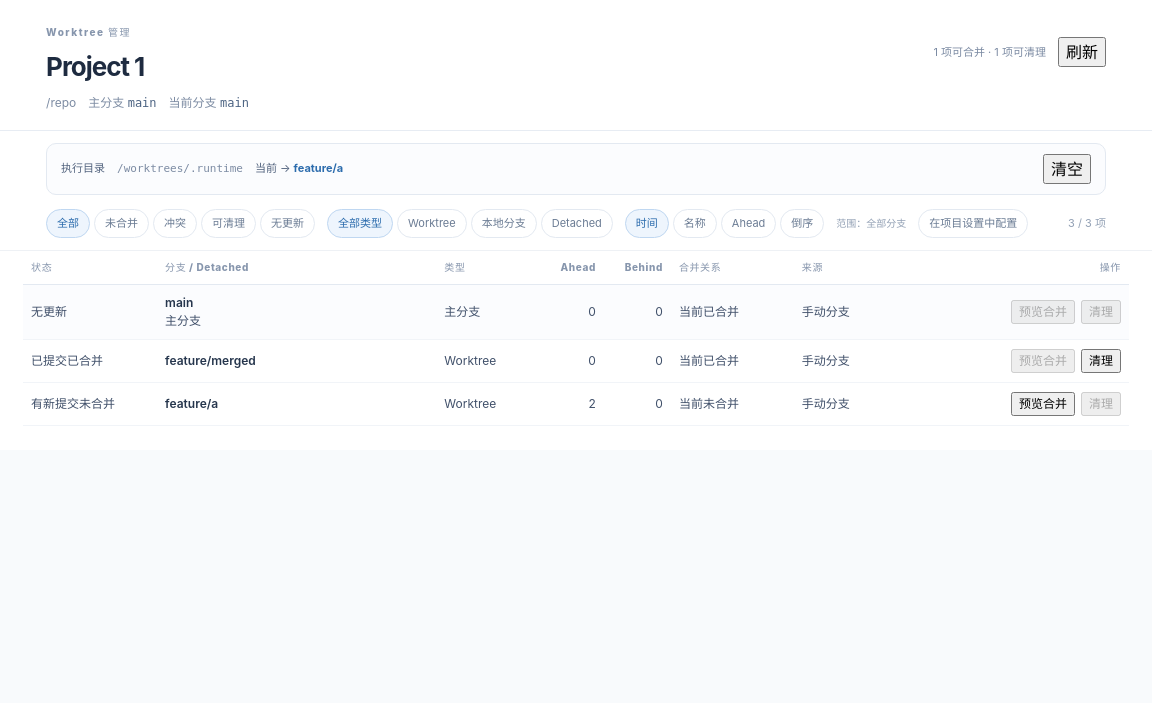
Scenario: Worktree 面板 · 执行目录 › 已是当前目标时按钮禁用，服务区块走 runtime 接口
The width and height of the screenshot is (1152, 703).
Check: the element showing "执行目录 /worktrees/.runtime 当前 → feature/a 清空" is shown, box [46,143,1106,195]
Click the button "有新提交未合并 feature/a Worktree 2 0 当前未合并 手动分支 预览合并 清理" at (576, 404), box [23,382,1129,425]
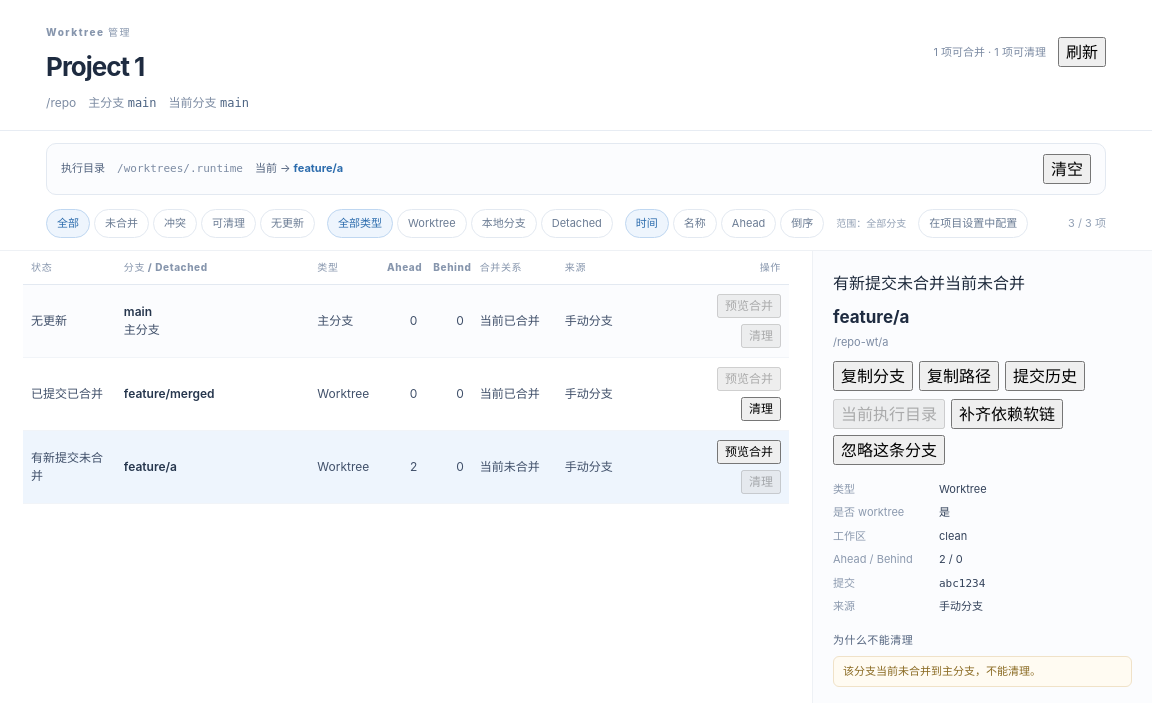
Check: the button "当前执行目录" is disabled, box [833,398,945,428]
